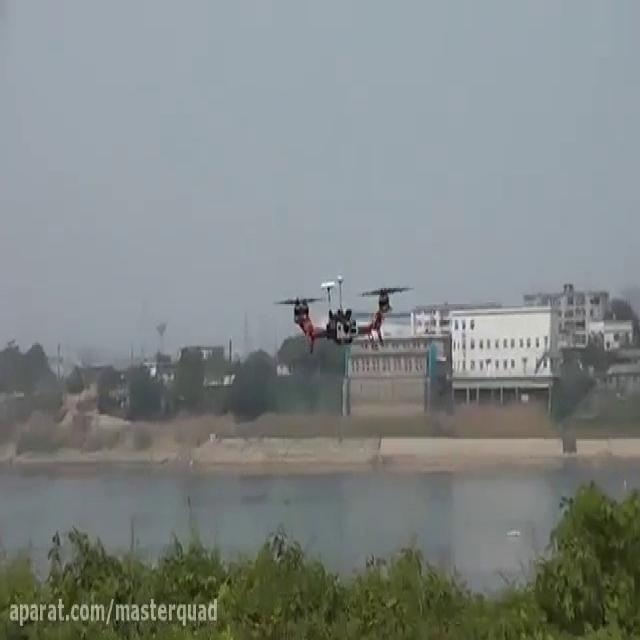drone: (270, 268, 415, 356)
